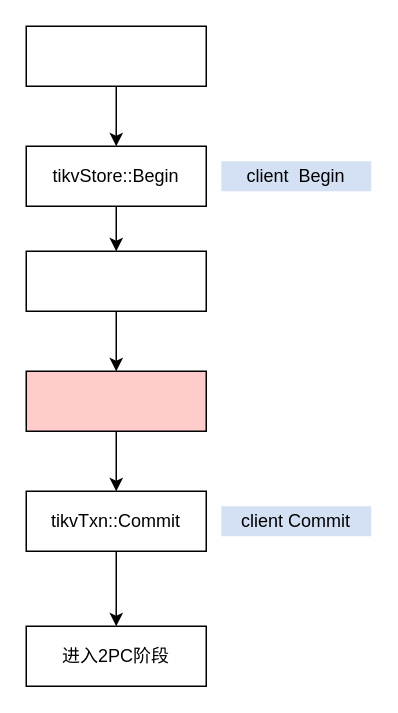
Image size: 398x713. Some labels were removed from this diagram. Here are the shapes that lost their labels. From the top down, the centre of each, then its label:
At (115,55): "RunInNewTxn".
At (115,280): "NewTiKVTxn".
At (115,400): "cb: f(ctx, txn)".
